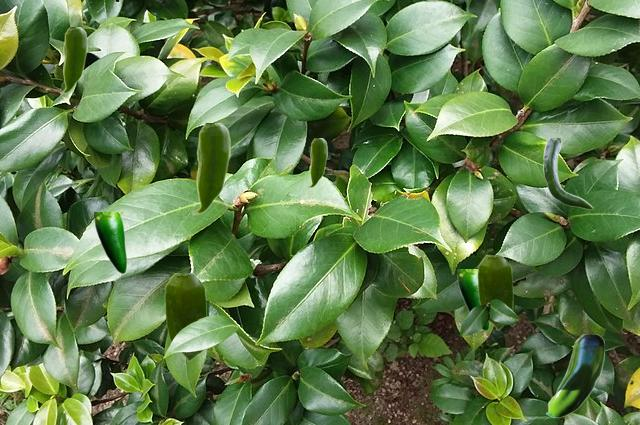green_chili: (545, 334, 603, 417), (164, 273, 206, 360), (191, 123, 229, 214), (543, 138, 592, 208), (477, 255, 512, 329), (94, 212, 126, 273), (457, 269, 489, 330), (59, 27, 86, 93), (307, 138, 326, 187)
